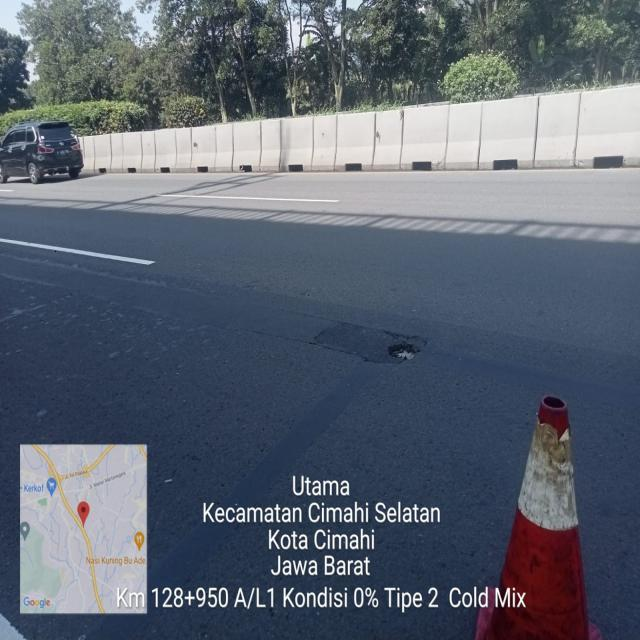Buraco: (382, 329, 431, 366)
